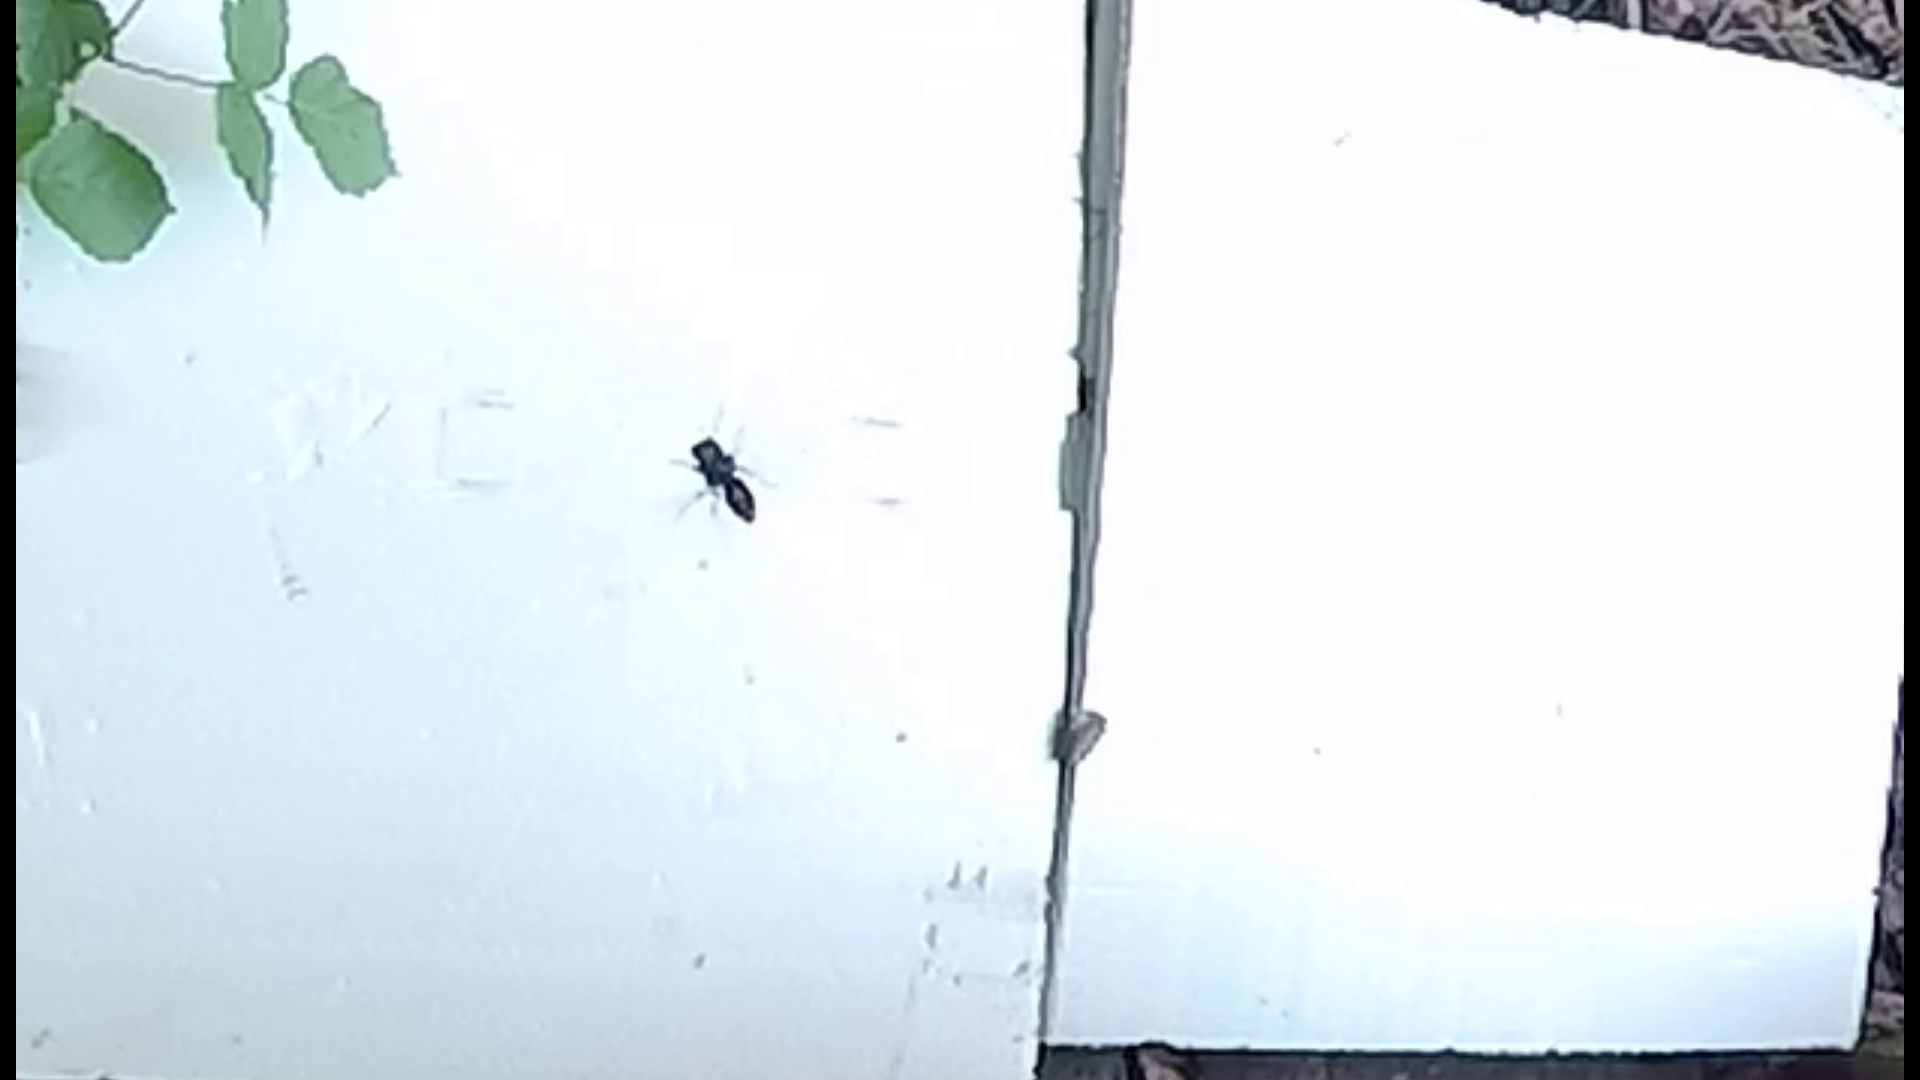Asian_hornets: (645, 389, 783, 539)
